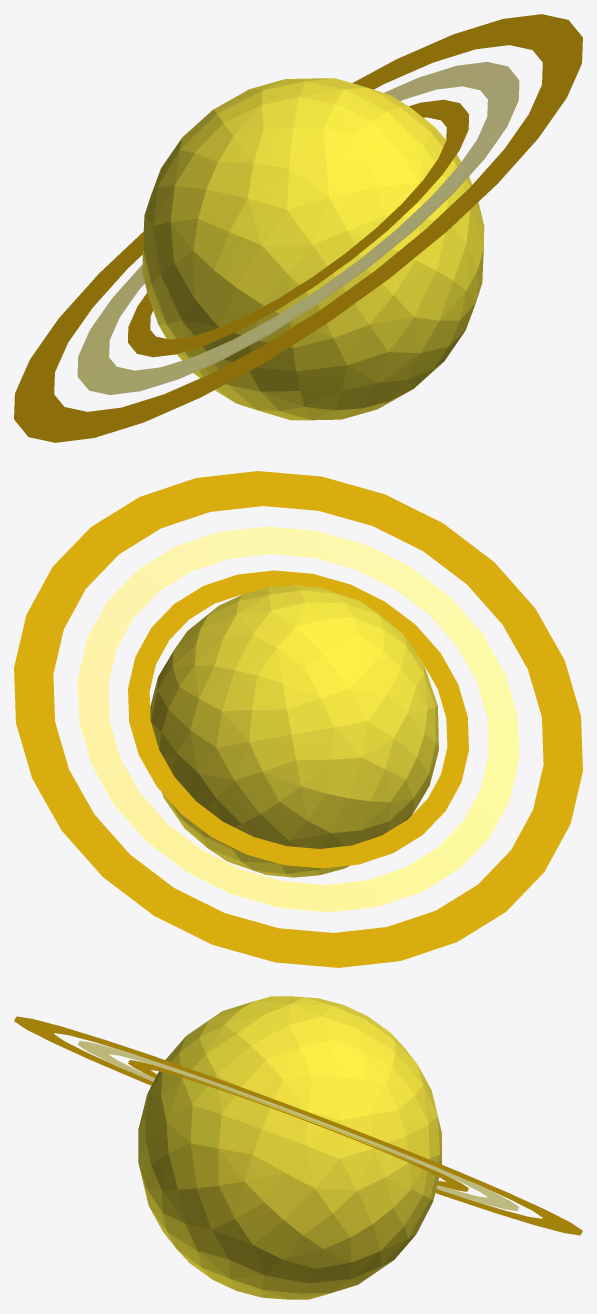
File: saturn.glb
3 views of the same model, one above another, from view 1: azimuth 30°, elevation 25°; view 2: azimuth 150°, elevation 25°; view 3: azimuth 270°, elevation 25° (orthographic). The views are drawn at different scales.
Visible parts, largest first — view 1: huitugou_2145_02; view 2: huitugou_2145_02; view 3: huitugou_2145_02.
Part boxes in pixels (left/top/right/bottom): huitugou_2145_02: left=14, top=14, right=582, bottom=442; huitugou_2145_02: left=14, top=471, right=582, bottom=967; huitugou_2145_02: left=14, top=996, right=582, bottom=1299.
Bounding box in the file's own units: 2 × 1.26 × 2.08.
1 material, 1 textured.
